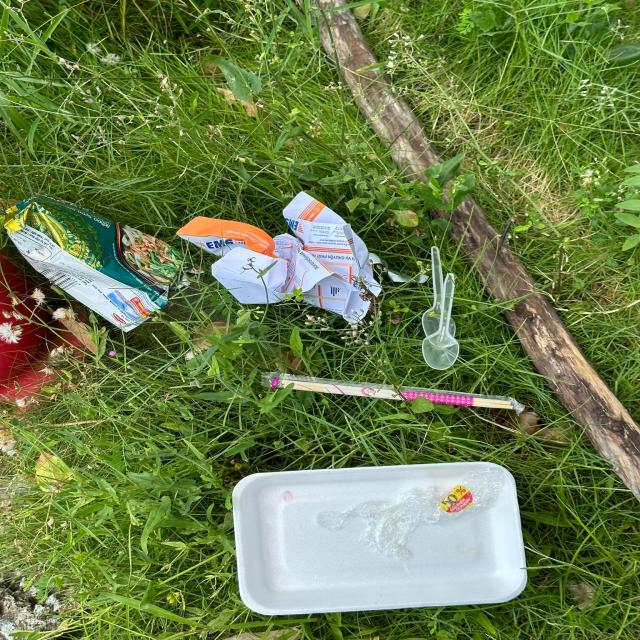foam box: (235, 463, 528, 615)
paper: (175, 190, 389, 330)
plastic utensil: (423, 245, 456, 348), (422, 274, 457, 370)
snack package: (2, 191, 196, 333)
